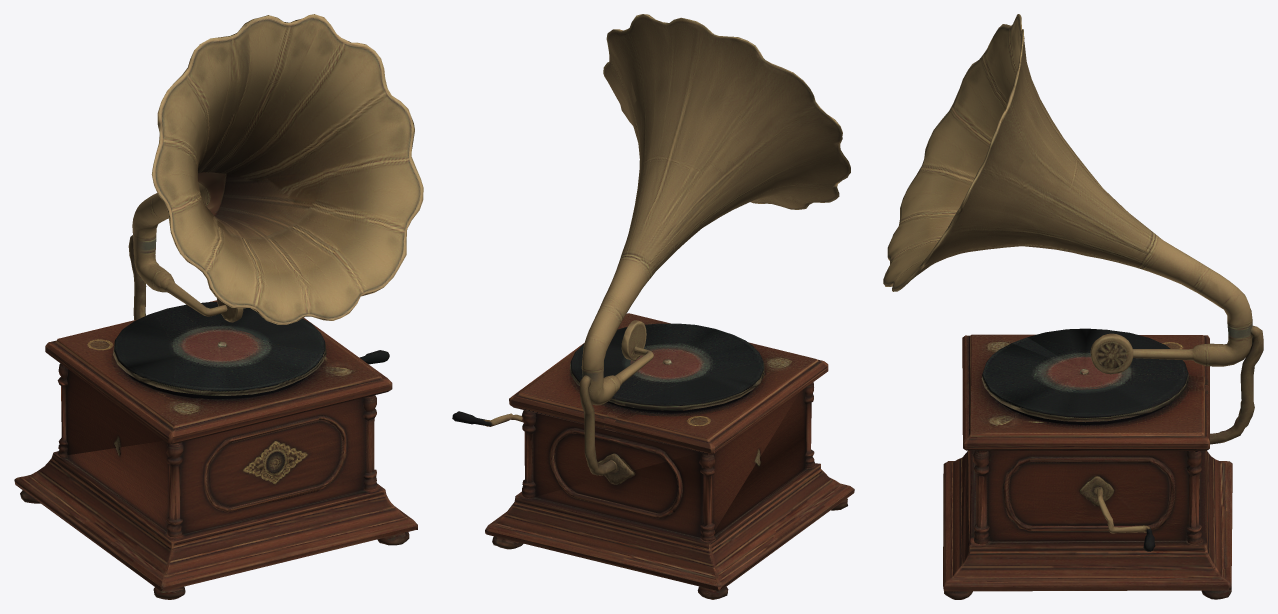
The model's file is rrr_prop_gramophone_v1.glb.
The picture shows the model from 3 angles, left to right: view 1: azimuth 30°, elevation 25°; view 2: azimuth 150°, elevation 25°; view 3: azimuth 270°, elevation 25°; orthographic projection. The views are drawn at different scales.
Visible parts, largest first — view 1: Mesh_0; view 2: Mesh_0; view 3: Mesh_0.
Part boxes in pixels (x1,y1,x2,y2): Mesh_0: (14,14,423,599); Mesh_0: (452,14,854,599); Mesh_0: (883,14,1263,599).
Size of the model in its own units: 0.4662 by 0.7 by 0.4703.
1 material, 1 textured.
